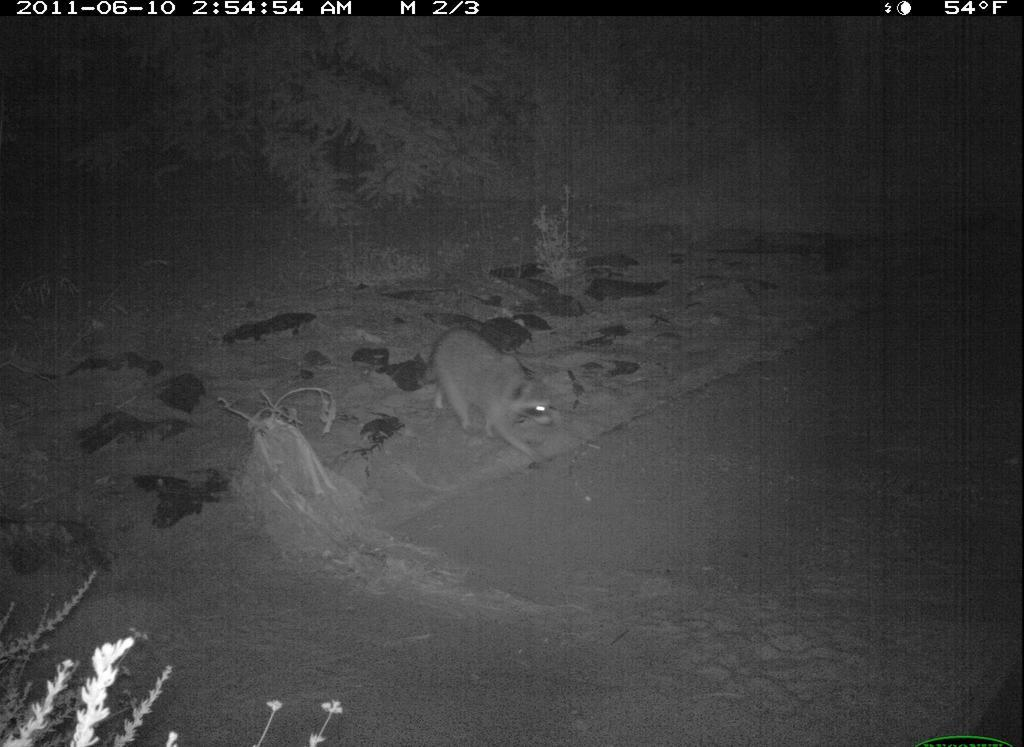raccoon: (418, 327, 561, 474)
